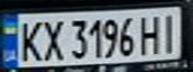1: (84, 16, 103, 58)
3: (66, 16, 87, 60)
6: (118, 14, 139, 57)
9: (103, 15, 121, 57)
H: (136, 11, 166, 55)
I: (154, 10, 184, 53)
K: (12, 18, 45, 63)
X: (39, 16, 66, 62)
